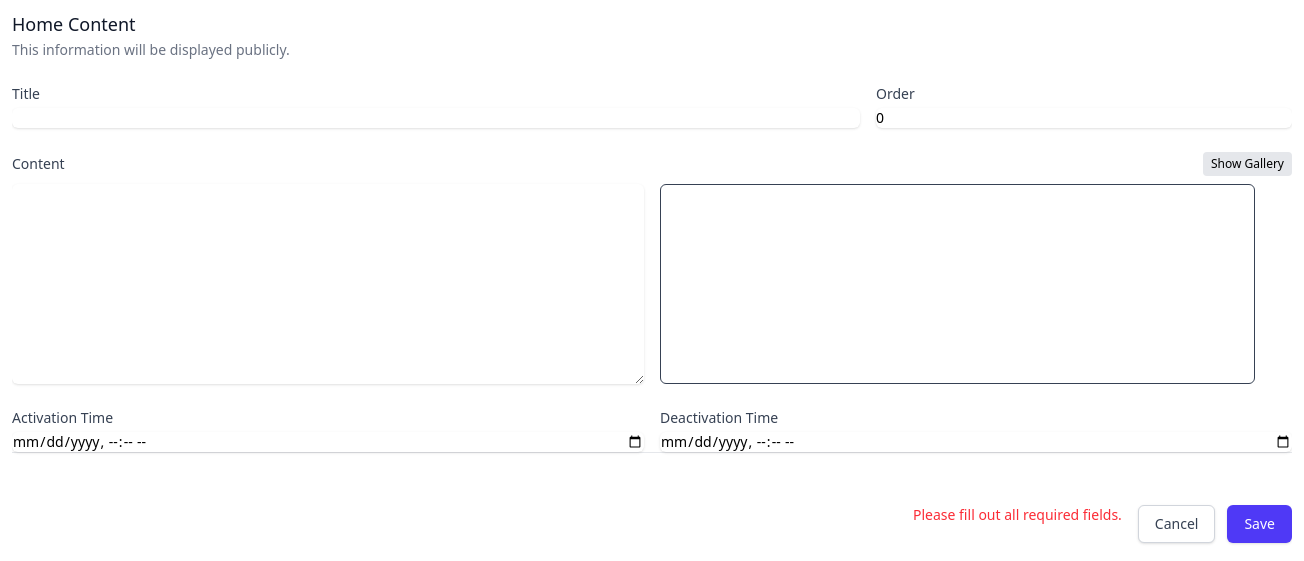
Test case: HomeFormComponent › should show error if dates are invalid
The width and height of the screenshot is (1304, 561).
Type "2023-01-02T10:00" into the field labelled "Activation Time". click: (328, 442)
box: [12,432,644,452]
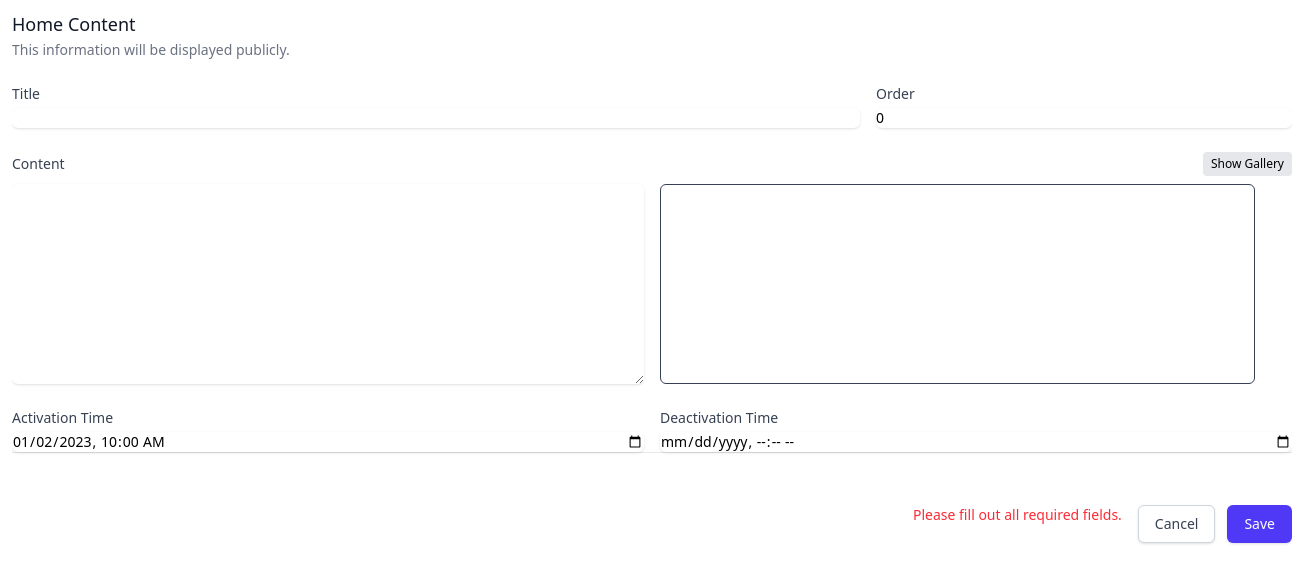
Type "2023-01-01T10:00" into the field labelled "Deactivation Time". click: (976, 442)
box: [660,432,1292,452]
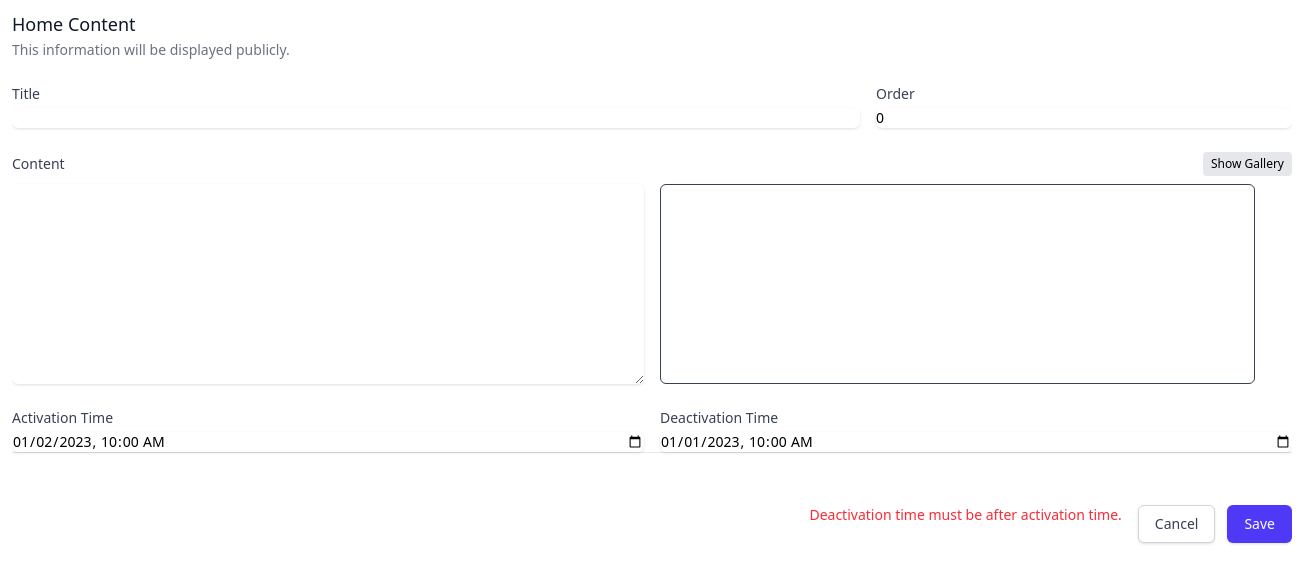
Now the text "Deactivation time must be after activation time." is shown, box [809,505,1122,524]
